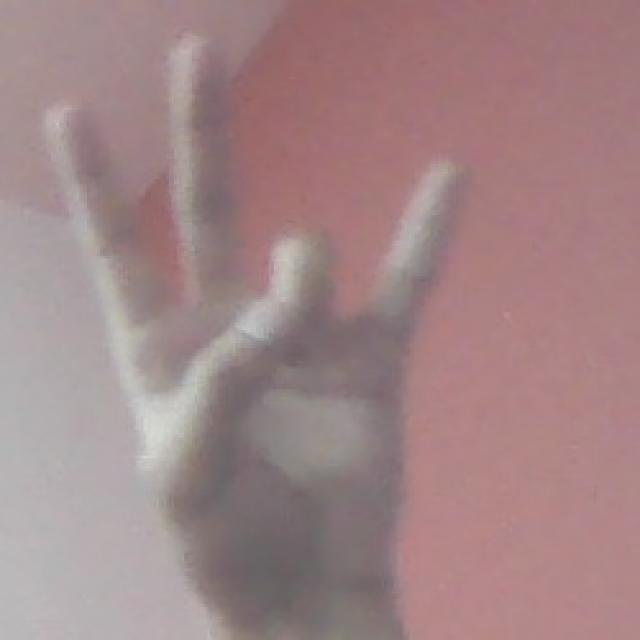Numeric-7: (39, 26, 468, 591)
